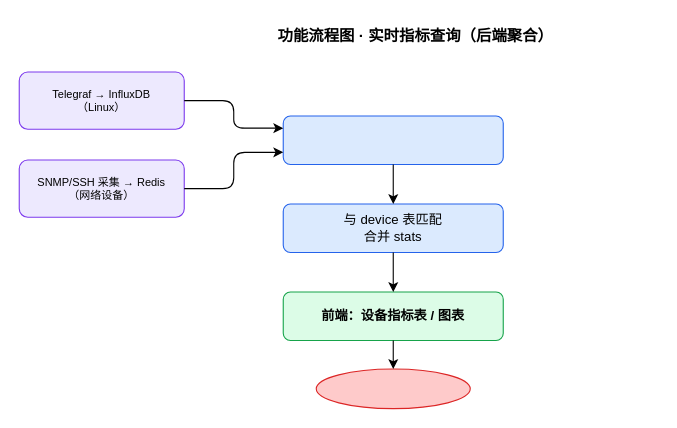
This 677x428 diagram has some shape labels left out. Here are the shapes that lost their labels. From the top down, the box of each, then its label:
(282, 115, 503, 164): GET /api/metrics/realtime
(315, 368, 470, 409): 结束
